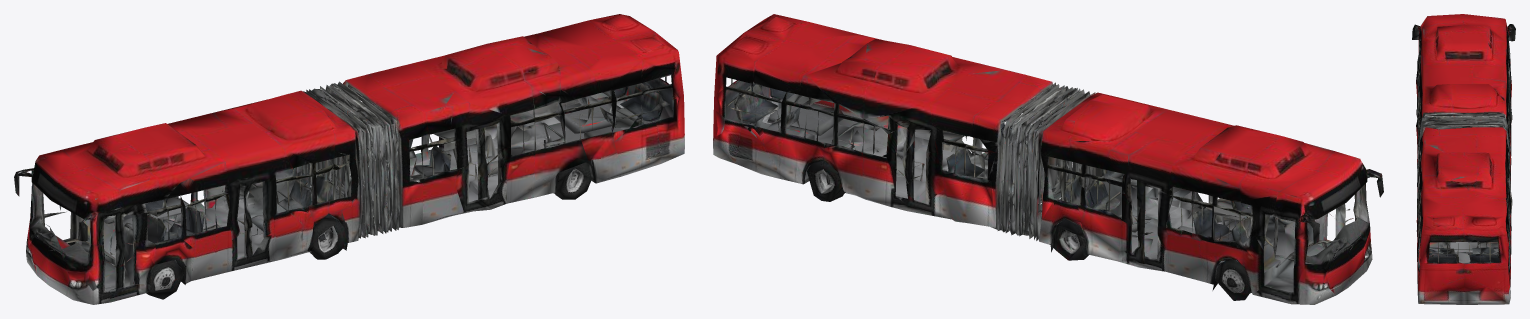
File: traffic_metrobus.glb
The picture shows the model from 3 angles, left to right: view 1: azimuth 30°, elevation 25°; view 2: azimuth 150°, elevation 25°; view 3: azimuth 270°, elevation 25°; orthographic projection. The views are drawn at different scales.
Visible parts, largest first — view 1: mesh_node; view 2: mesh_node; view 3: mesh_node.
Boxes of the visible parts, x1=… form: mesh_node: x1=14, y1=14, x2=684, y2=304; mesh_node: x1=713, y1=14, x2=1383, y2=304; mesh_node: x1=1412, y1=14, x2=1515, y2=304.
Size of the model in its own units: 15.35 by 3.19 by 3.06.
Materials: 1 (1 with a texture image).
